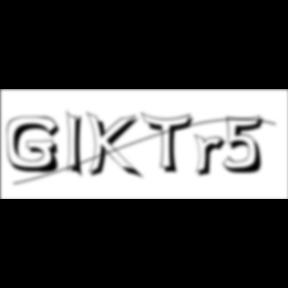5: (222, 114, 270, 176)
G: (7, 116, 66, 176)
K: (86, 110, 146, 182)
T: (141, 112, 199, 176)
l: (66, 108, 89, 182)
r: (194, 134, 232, 180)
